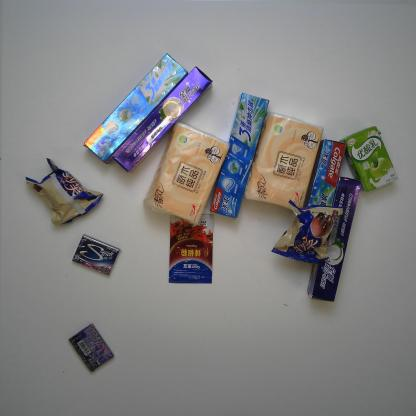Dessert: (23, 157, 105, 226), (271, 199, 344, 265)
Gum: (68, 321, 117, 376), (70, 233, 120, 276)
Milk: (340, 126, 400, 194)
Personal Hygiene: (83, 52, 188, 167), (111, 65, 215, 173), (206, 92, 270, 220), (306, 174, 363, 304), (305, 137, 347, 226)
Seasoner: (164, 209, 217, 285)
Tissue: (239, 110, 327, 216), (142, 121, 233, 223)
